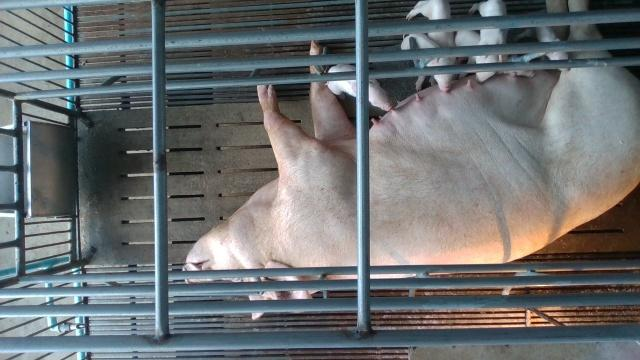piglet: (405, 0, 457, 65), (328, 64, 393, 112), (401, 33, 453, 93), (471, 0, 508, 81), (516, 25, 570, 72)
sow-sleep-lactate: (183, 0, 640, 319)
